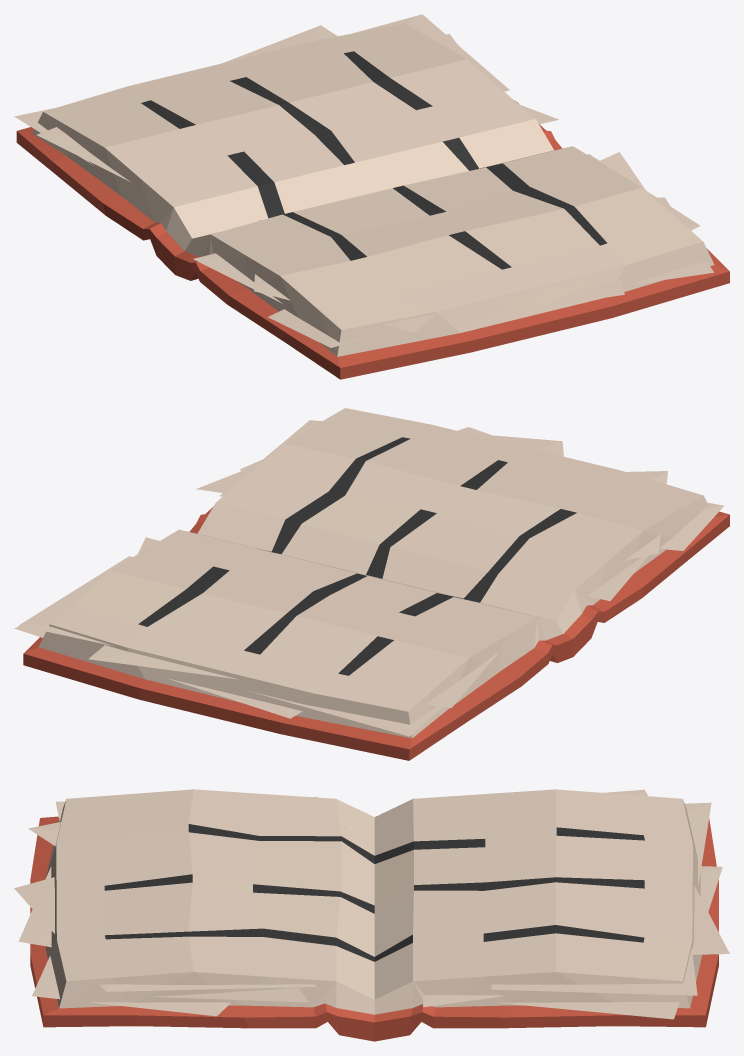
The model's file is Book03_Open.fbx.
3 renders of one model, top to bottom at view 1: azimuth 30°, elevation 25°; view 2: azimuth 150°, elevation 25°; view 3: azimuth 270°, elevation 25°, orthographic. The views are drawn at different scales.
Visible parts, largest first — view 1: Book03_Open; view 2: Book03_Open; view 3: Book03_Open.
Boxes of the visible parts, x1=… form: Book03_Open: x1=14, y1=14, x2=729, y2=379; Book03_Open: x1=14, y1=408, x2=729, y2=760; Book03_Open: x1=14, y1=789, x2=729, y2=1041.
Bounding box in the file's own units: 1.03 × 0.142 × 1.44.
